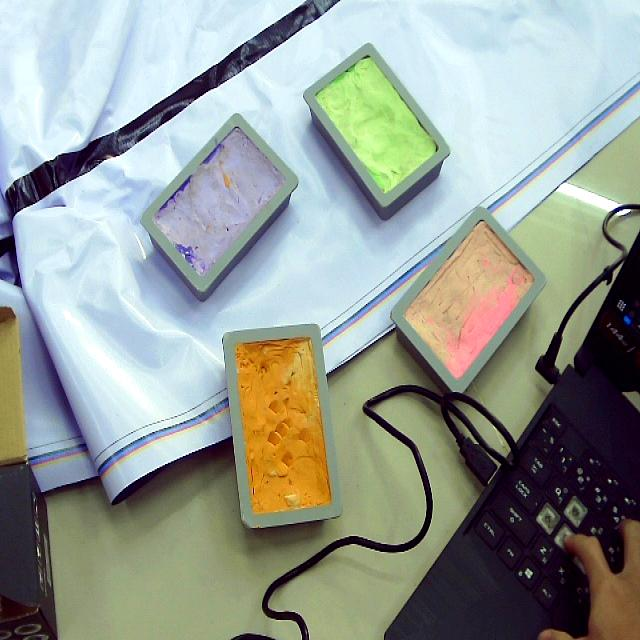block: (387, 207, 549, 398), (139, 113, 297, 302), (302, 40, 449, 218), (222, 324, 342, 529)
